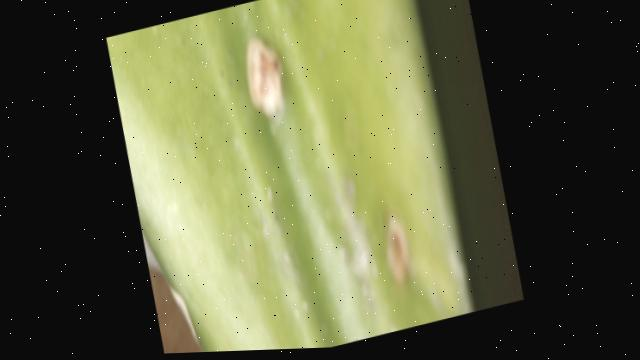stemcanker: (243, 29, 289, 120), (381, 207, 419, 288)
